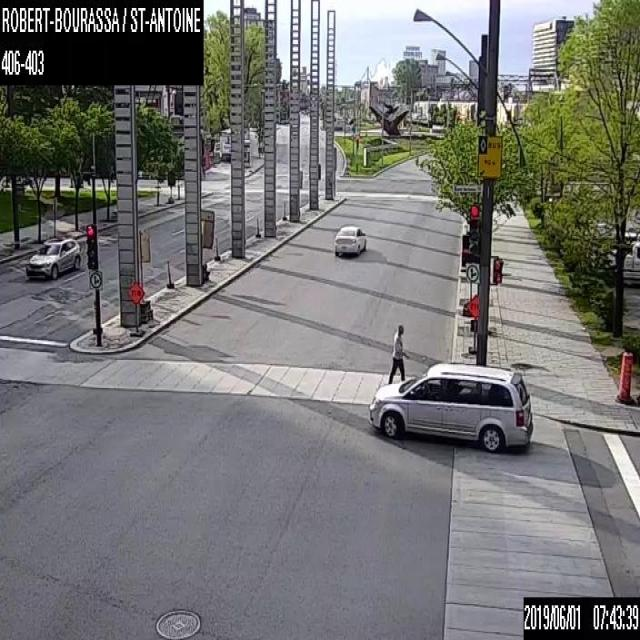construction: (138, 230, 152, 322), (200, 207, 214, 281), (126, 280, 144, 336), (616, 349, 633, 404), (465, 294, 480, 352)
pedestrian: (385, 323, 410, 381)
vehicle: (368, 360, 532, 453), (24, 235, 81, 280), (334, 223, 366, 257)
